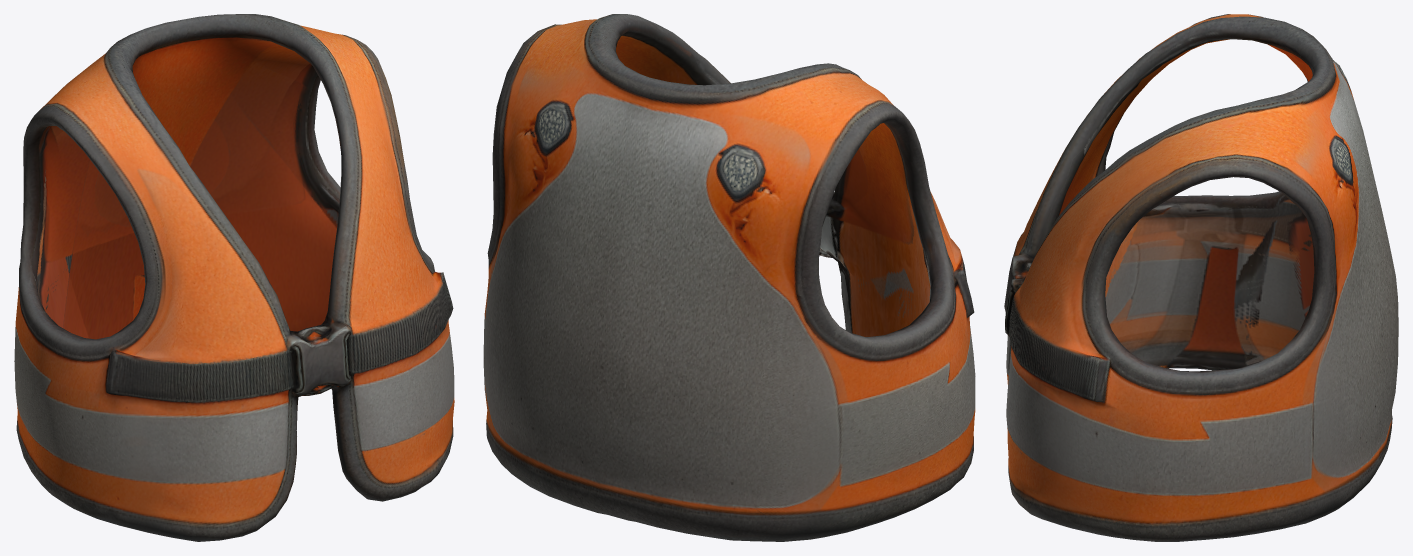
Rendered from turtle_vest.glb.
3 views of the same model, side by side, from view 1: azimuth 30°, elevation 25°; view 2: azimuth 150°, elevation 25°; view 3: azimuth 270°, elevation 25° (orthographic). The views are drawn at different scales.
Visible parts, largest first — view 1: texture_mapping; view 2: texture_mapping; view 3: texture_mapping.
Boxes of the visible parts, x1,y1,x2,y2 form: texture_mapping: (14,14,454,541); texture_mapping: (483,14,975,541); texture_mapping: (1004,14,1398,541).
Size of the model in its own units: 1 by 0.9775 by 0.8667.
Materials: 1 (1 with a texture image).
